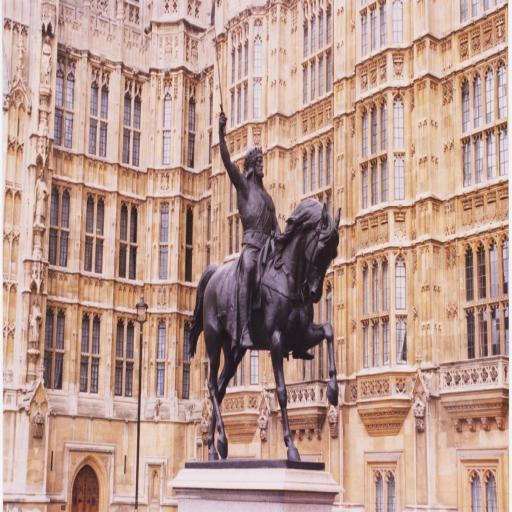horse: (184, 196, 346, 460)
